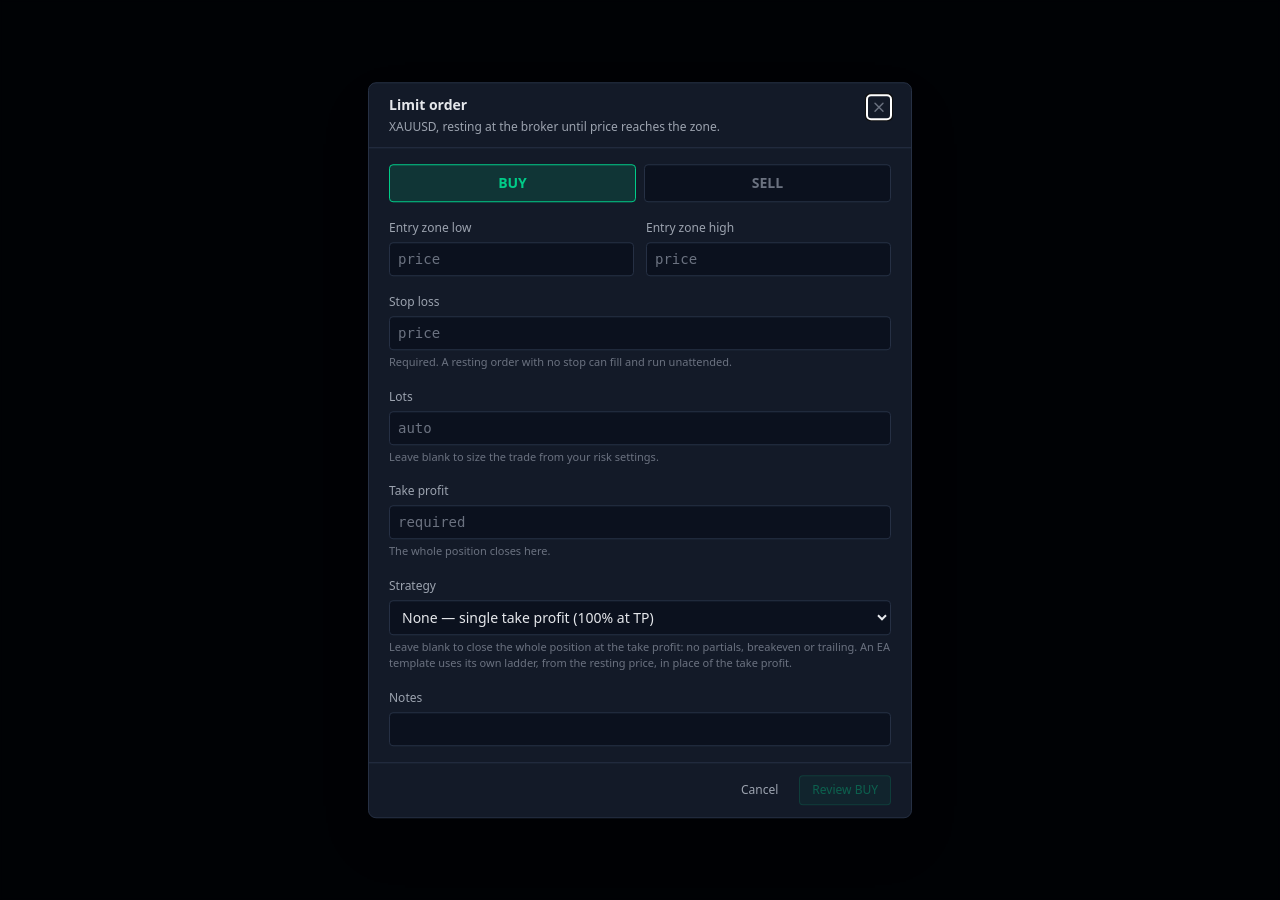
Test case: the confirmation › offers a way back that is not the confirm button
Type "2430" into the field labelled "Entry zone low". click: (512, 259)
box: [389, 242, 634, 276]
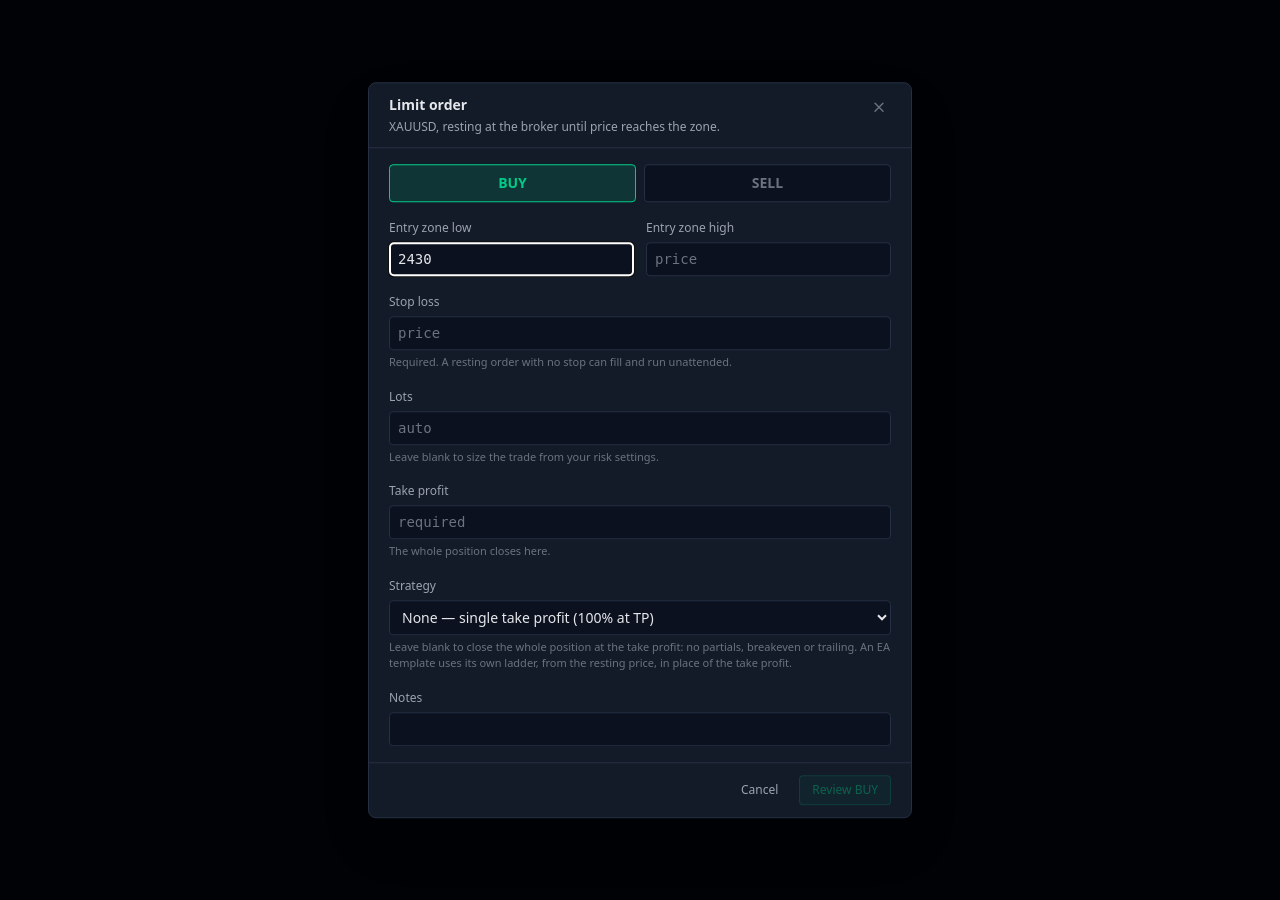
Type "2432" into the field labelled "Entry zone high". click: (768, 259)
box: [646, 242, 891, 276]
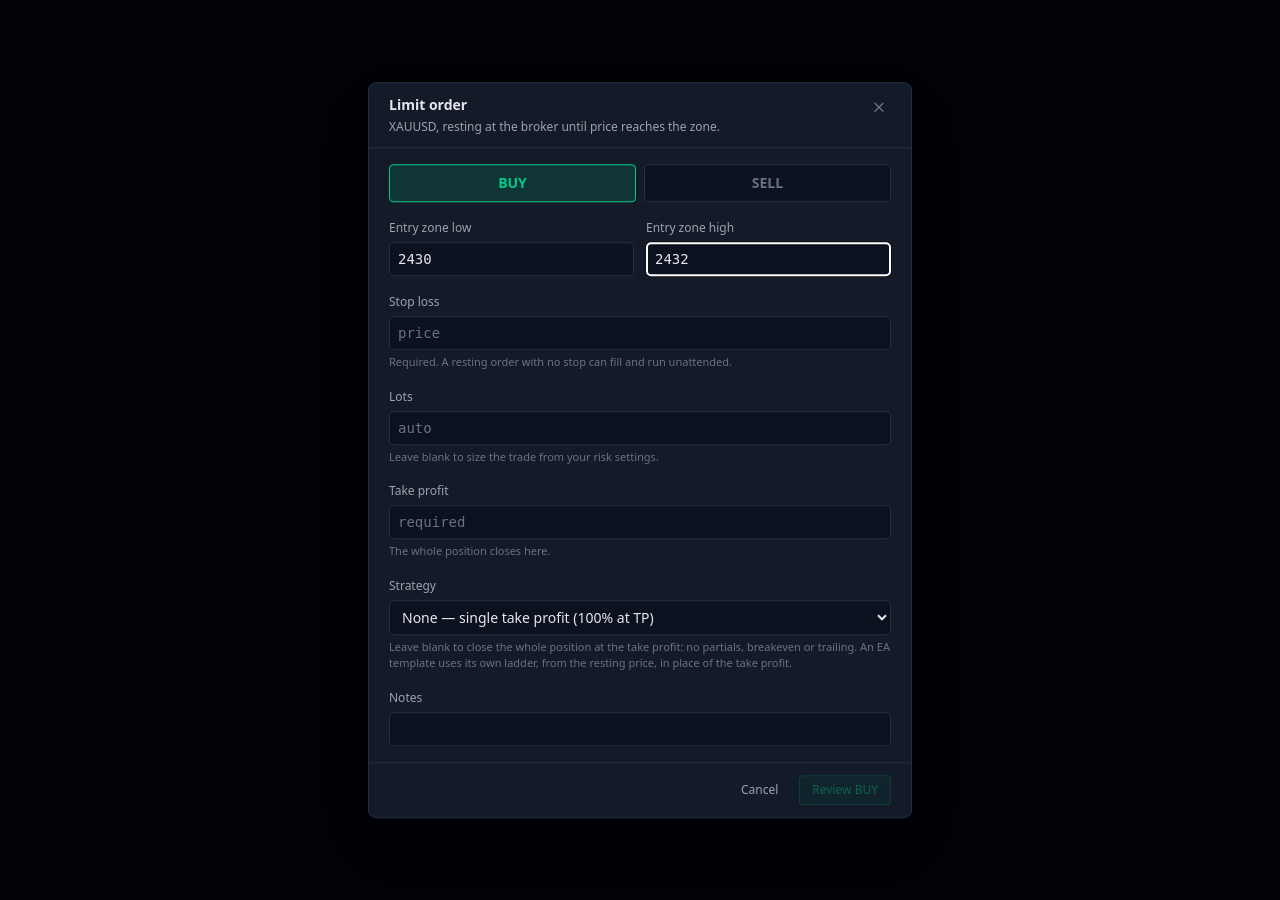
Type "2421" into the field labelled "Stop loss". click: (640, 333)
box: [389, 316, 891, 350]
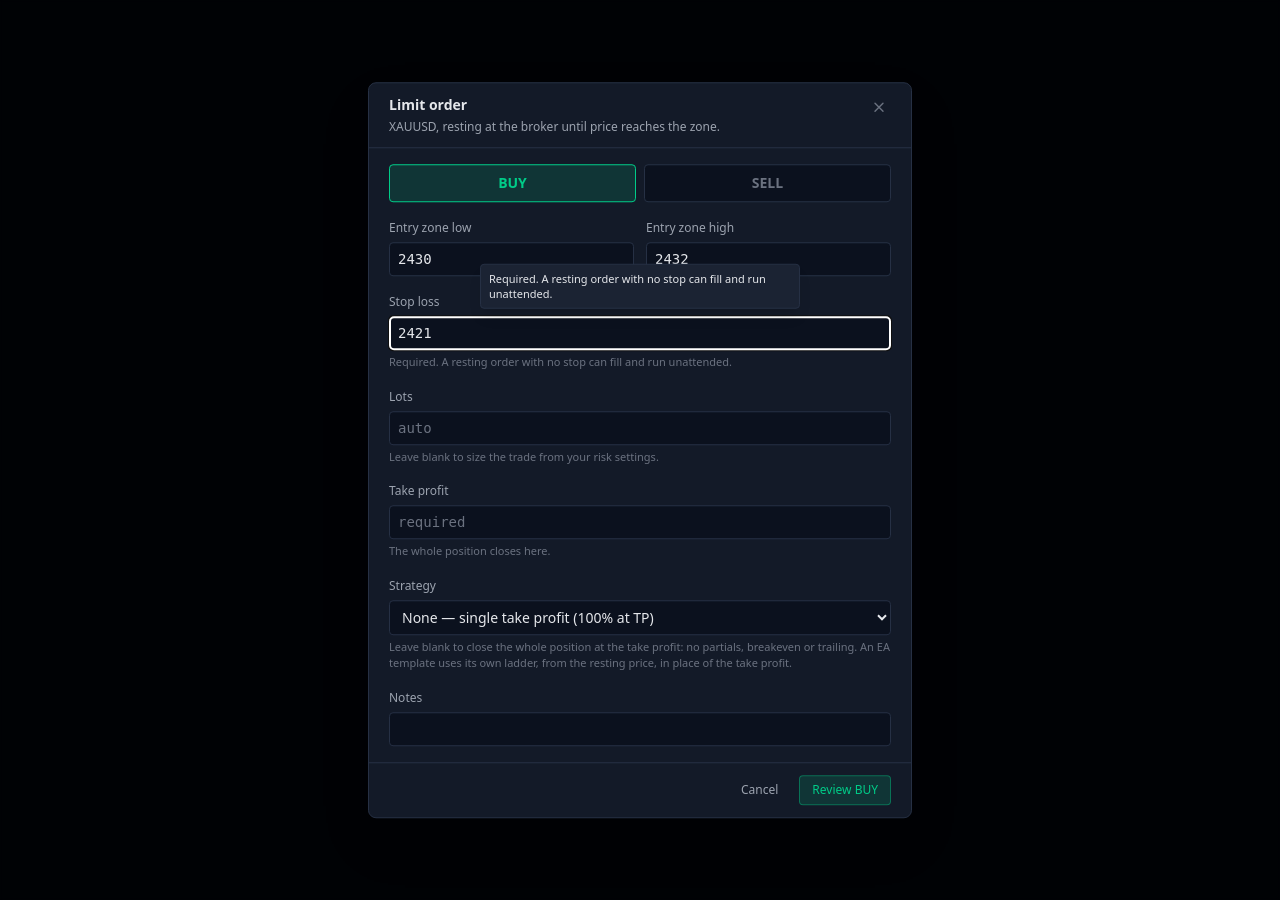
Click the button "Review BUY". click: (845, 790)
box: [799, 775, 891, 805]
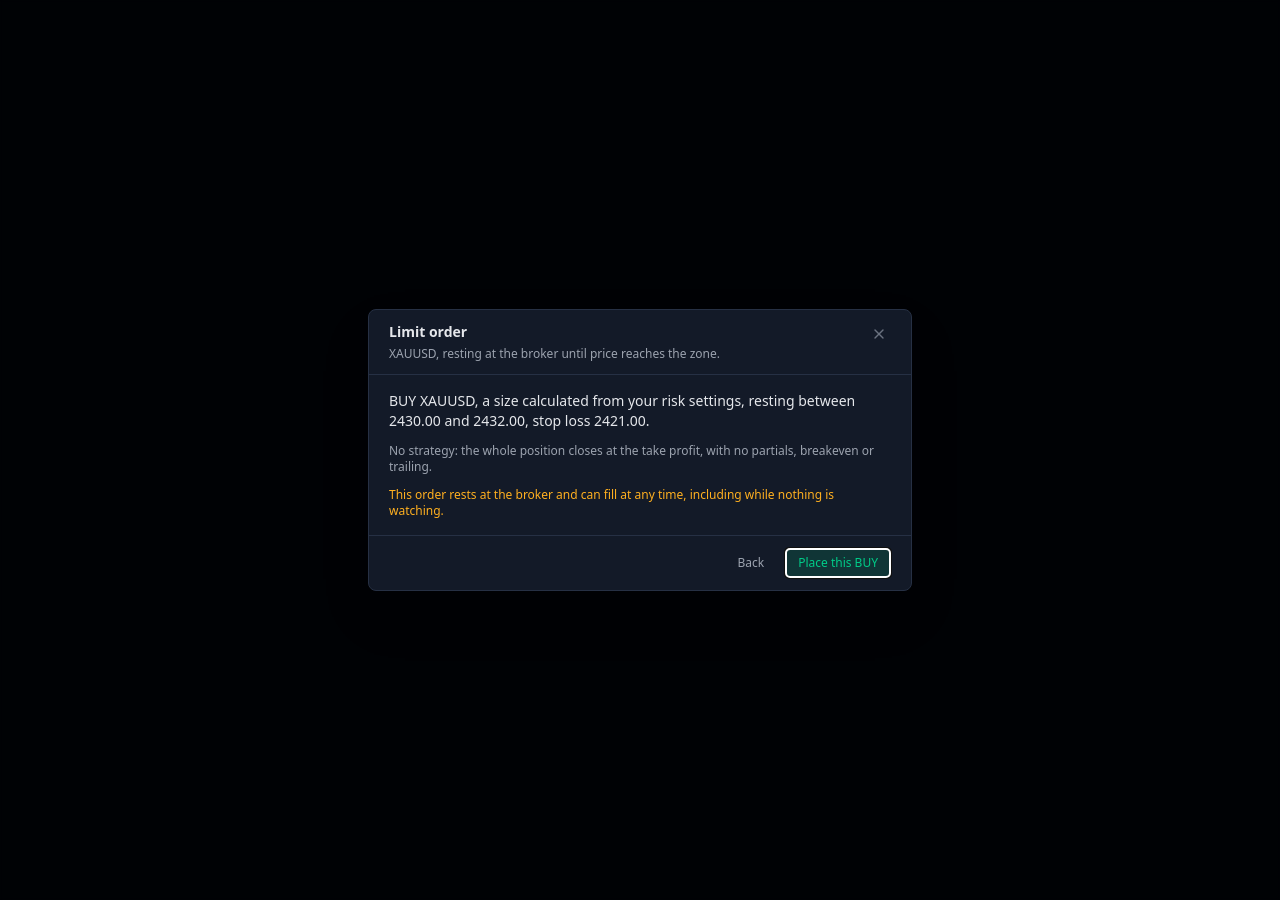
Click the button "Back". click: (751, 563)
box: [724, 548, 777, 578]
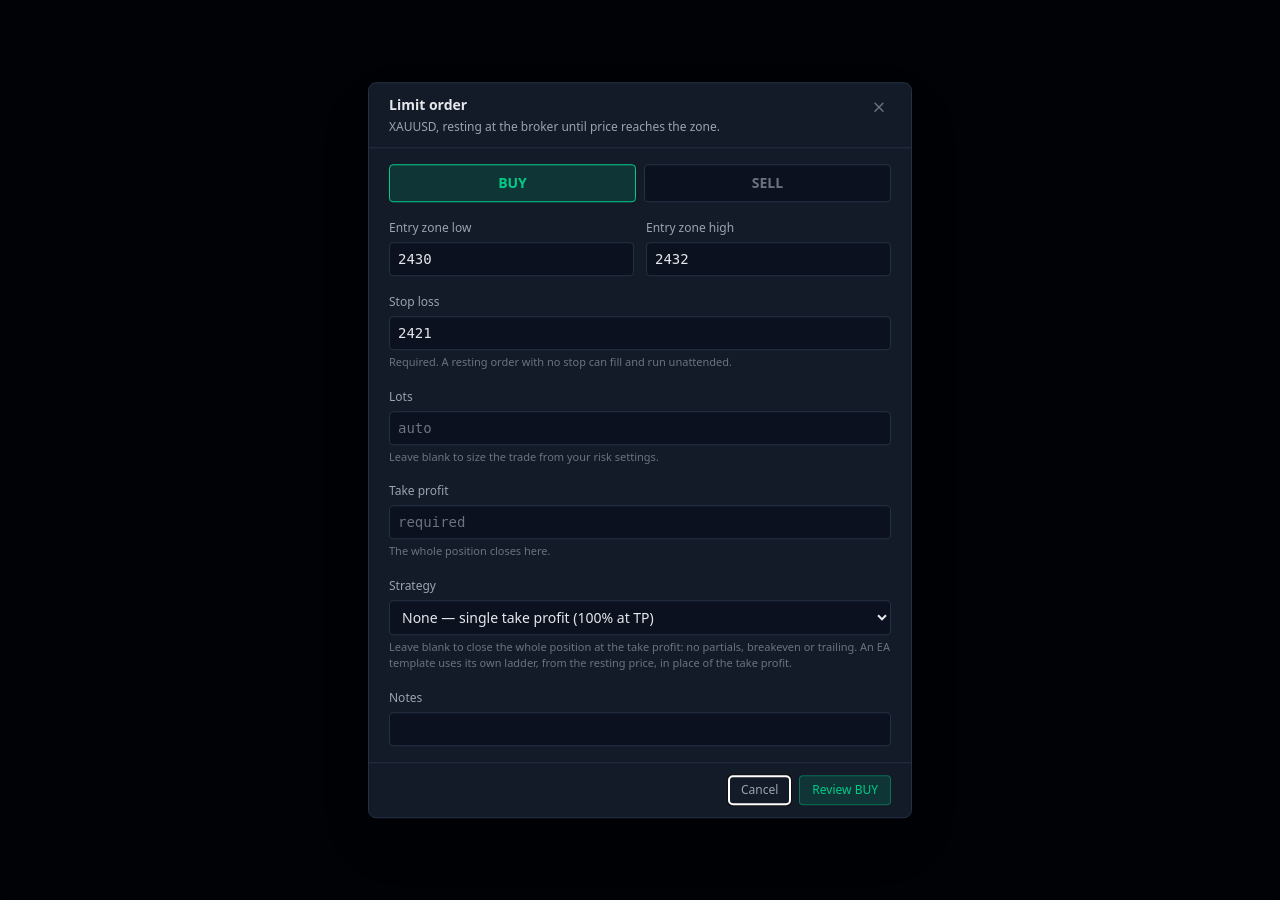
Expected: the button "Review BUY" is shown, [799, 775, 891, 805]
